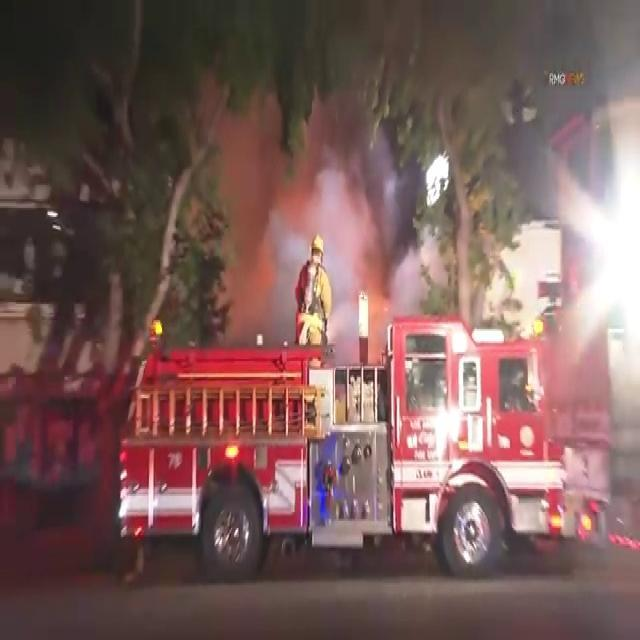Smoke: (172, 0, 416, 320)
